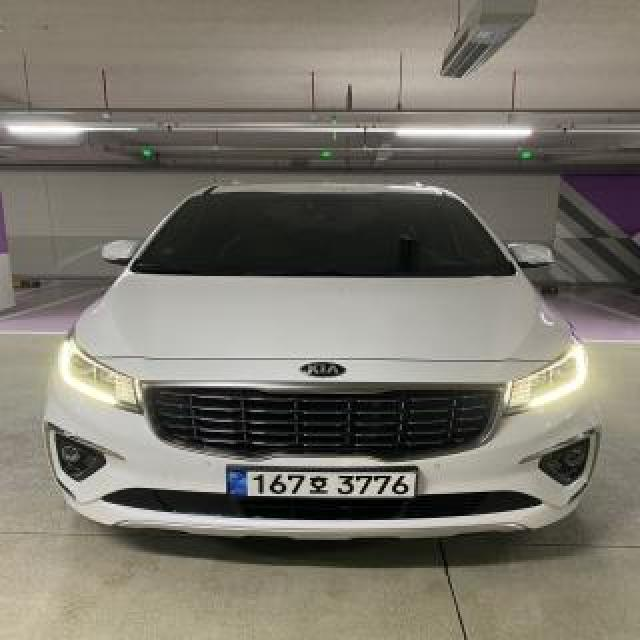car: (42, 177, 606, 553)
illegal_plate: (222, 464, 426, 511)
